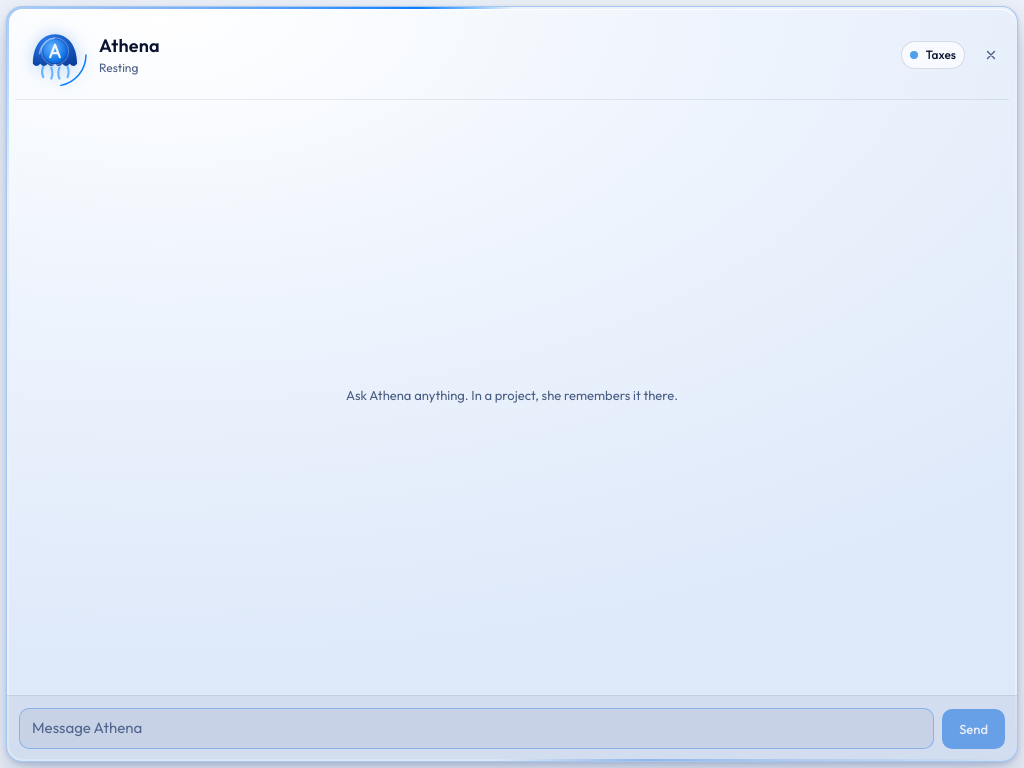
her window › Stop aborts the reply
Step 1. Type "Long story please" into the text box labelled "Message Athena" → (477, 728), box [19,708,934,749]
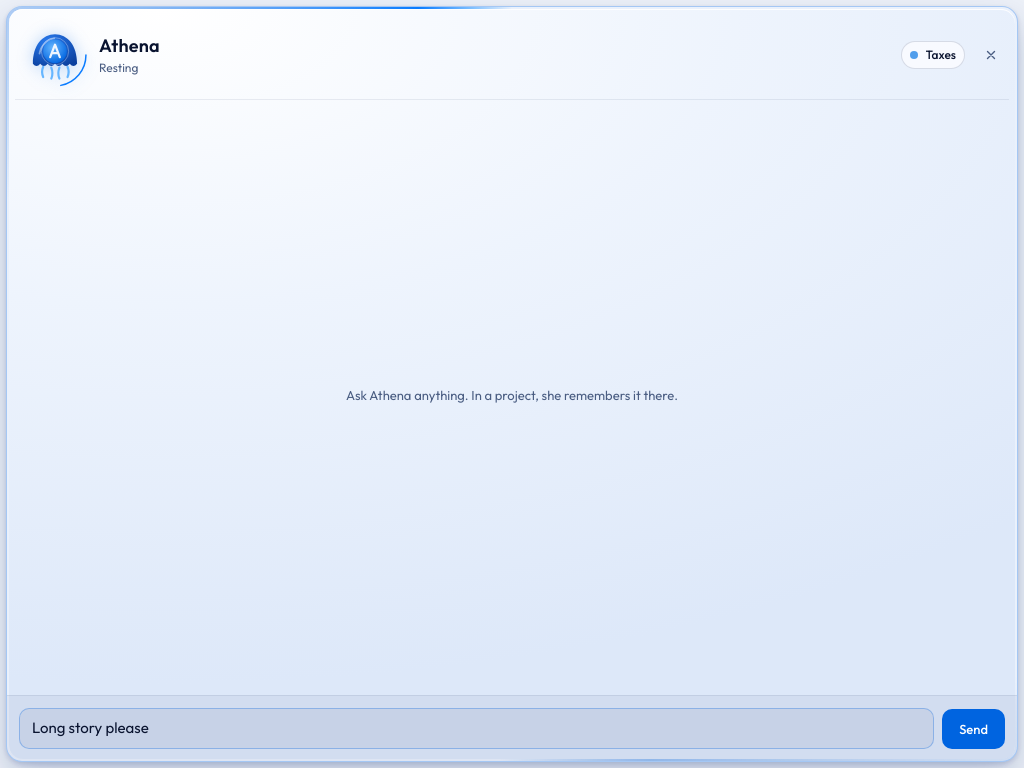
Step 2. Press Enter in the text box named "Message Athena", box [19,708,934,749]
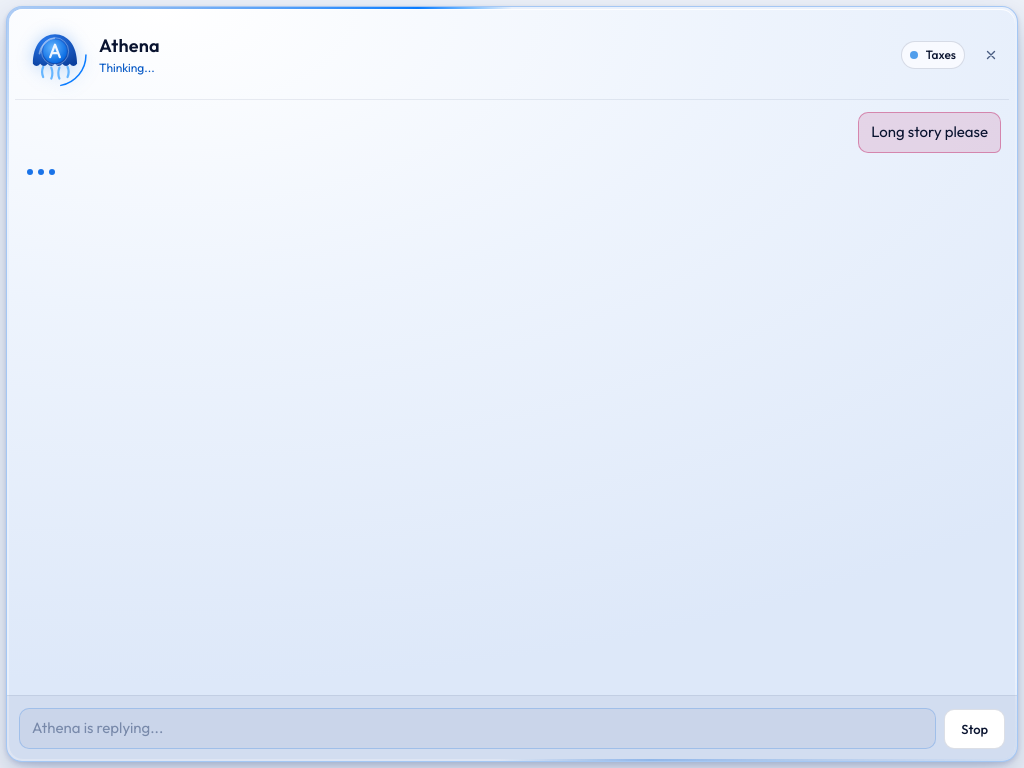
Step 3. Click the button "Stop" → (975, 729), box [944,709,1005,749]
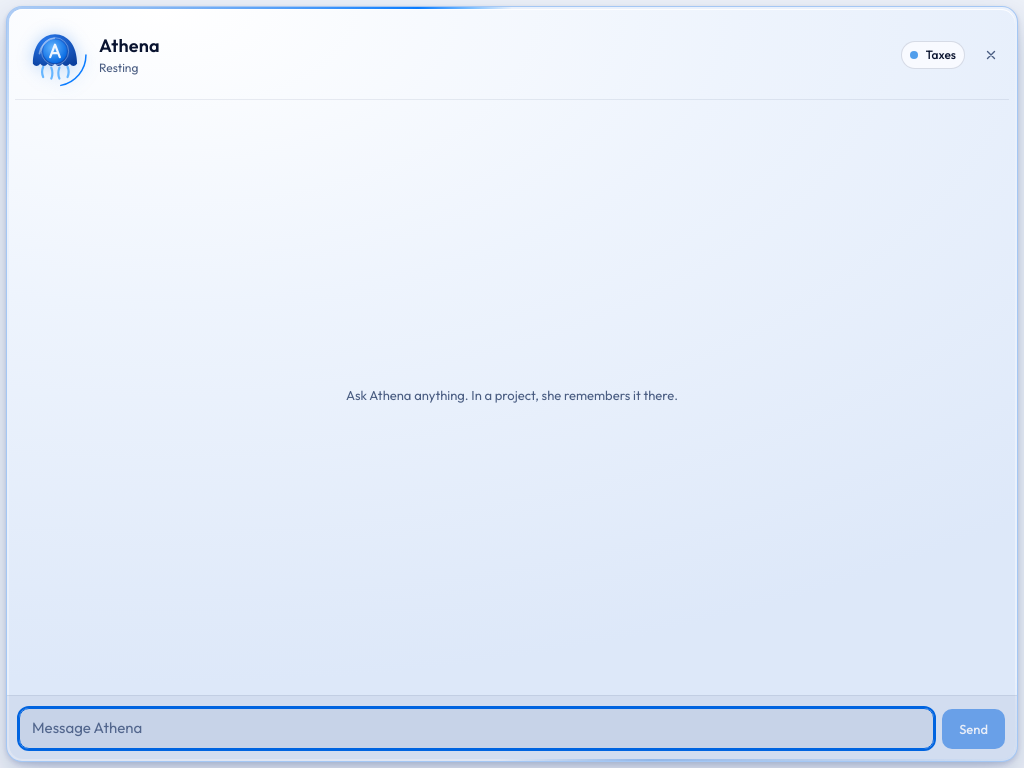
Expected: the text box labelled "Message Athena" is enabled, [19,708,934,749]
